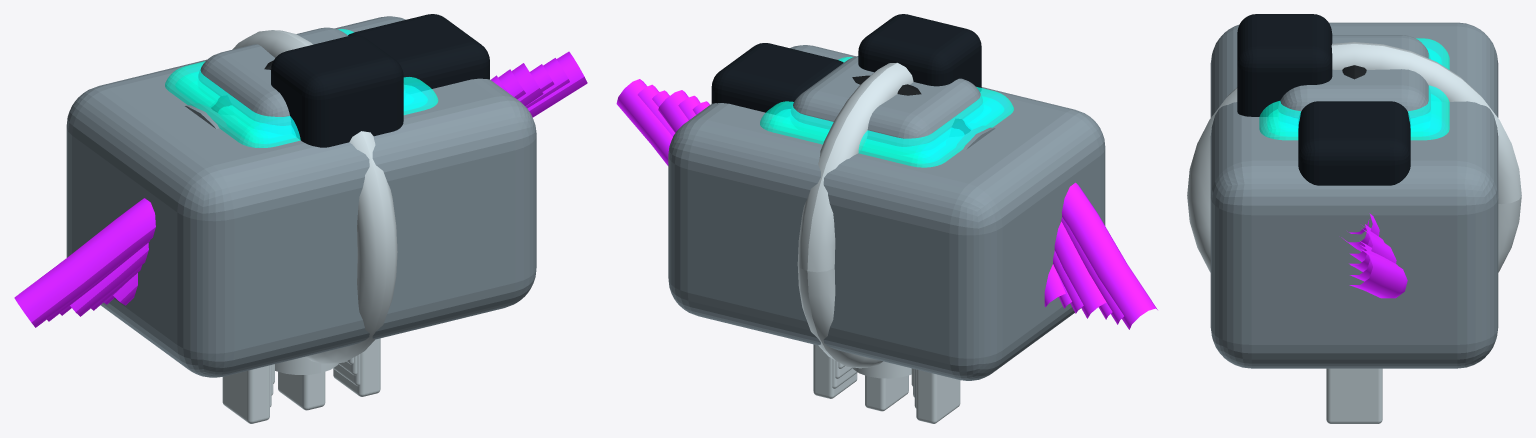
The model's file is electrical_01.glb.
3 views of the same model, side by side, from view 1: azimuth 30°, elevation 25°; view 2: azimuth 150°, elevation 25°; view 3: azimuth 270°, elevation 25° (orthographic). The views are drawn at different scales.
Parts seen in each view (by area): view 1: asset_mesh__electrical_0008__reference_body, asset_mesh__electrical_0042__electrical_connector, asset_mesh__electrical_0044__functional_ring, asset_mesh__electrical_0026__current_path, asset_mesh__electrical_0034__connector, asset_mesh__electrical_0053__relay_or_fuse_body, asset_mesh__electrical_0034__sensor_body, asset_mesh__electrical_0052__relay_or_fuse_body, asset_mesh__electrical_0053__blade_1, asset_mesh__electrical_0032__current_path, asset_mesh__electrical_0053__blade_2, asset_mesh__electrical_0053__blade_3 (+3 smaller); view 2: asset_mesh__electrical_0008__reference_body, asset_mesh__electrical_0044__functional_ring, asset_mesh__electrical_0034__sensor_body, asset_mesh__electrical_0053__relay_or_fuse_body, asset_mesh__electrical_0042__electrical_connector, asset_mesh__electrical_0026__current_path, asset_mesh__electrical_0034__connector, asset_mesh__electrical_0052__relay_or_fuse_body, asset_mesh__electrical_0032__current_path, asset_mesh__electrical_0053__blade_1, asset_mesh__electrical_0025__current_path, asset_mesh__electrical_0053__blade_2 (+4 smaller); view 3: asset_mesh__electrical_0008__reference_body, asset_mesh__electrical_0034__connector, asset_mesh__electrical_0044__functional_ring, asset_mesh__electrical_0042__electrical_connector, asset_mesh__electrical_0034__sensor_body, asset_mesh__electrical_0053__relay_or_fuse_body, asset_mesh__electrical_0053__blade_3, asset_mesh__electrical_0052__relay_or_fuse_body, asset_mesh__electrical_0026__current_path, asset_mesh__electrical_0032__current_path.
Boxes of the visible parts, x1,y1,x2,y2 form: asset_mesh__electrical_0008__reference_body: [66, 16, 536, 377]; asset_mesh__electrical_0042__electrical_connector: [271, 35, 403, 147]; asset_mesh__electrical_0044__functional_ring: [232, 30, 397, 363]; asset_mesh__electrical_0026__current_path: [14, 51, 587, 327]; asset_mesh__electrical_0034__connector: [348, 14, 489, 91]; asset_mesh__electrical_0053__relay_or_fuse_body: [165, 29, 438, 147]; asset_mesh__electrical_0034__sensor_body: [198, 27, 404, 125]; asset_mesh__electrical_0052__relay_or_fuse_body: [176, 72, 427, 143]; asset_mesh__electrical_0053__blade_1: [222, 365, 269, 423]; asset_mesh__electrical_0032__current_path: [70, 63, 543, 316]; asset_mesh__electrical_0053__blade_2: [278, 372, 325, 410]; asset_mesh__electrical_0053__blade_3: [333, 338, 380, 396]; asset_mesh__electrical_0008__reference_body: [668, 45, 1105, 380]; asset_mesh__electrical_0044__functional_ring: [797, 62, 913, 368]; asset_mesh__electrical_0034__sensor_body: [791, 56, 982, 146]; asset_mesh__electrical_0053__relay_or_fuse_body: [760, 56, 1013, 167]; asset_mesh__electrical_0042__electrical_connector: [858, 14, 981, 91]; asset_mesh__electrical_0026__current_path: [616, 79, 1157, 329]; asset_mesh__electrical_0034__connector: [711, 43, 843, 114]; asset_mesh__electrical_0052__relay_or_fuse_body: [770, 96, 1003, 162]; asset_mesh__electrical_0032__current_path: [658, 90, 1106, 318]; asset_mesh__electrical_0053__blade_1: [916, 369, 960, 423]; asset_mesh__electrical_0025__current_path: [637, 84, 1123, 324]; asset_mesh__electrical_0053__blade_2: [865, 375, 908, 411]; asset_mesh__electrical_0008__reference_body: [1210, 22, 1498, 368]; asset_mesh__electrical_0034__connector: [1298, 101, 1410, 185]; asset_mesh__electrical_0044__functional_ring: [1187, 42, 1521, 272]; asset_mesh__electrical_0042__electrical_connector: [1237, 14, 1332, 116]; asset_mesh__electrical_0034__sensor_body: [1278, 35, 1430, 118]; asset_mesh__electrical_0053__relay_or_fuse_body: [1259, 38, 1449, 140]; asset_mesh__electrical_0053__blade_3: [1326, 368, 1382, 423]; asset_mesh__electrical_0052__relay_or_fuse_body: [1268, 48, 1440, 135]; asset_mesh__electrical_0026__current_path: [1349, 249, 1407, 298]; asset_mesh__electrical_0032__current_path: [1349, 229, 1396, 271].
Bounding box in the file's own units: 1.73 × 1.08 × 0.8996.
